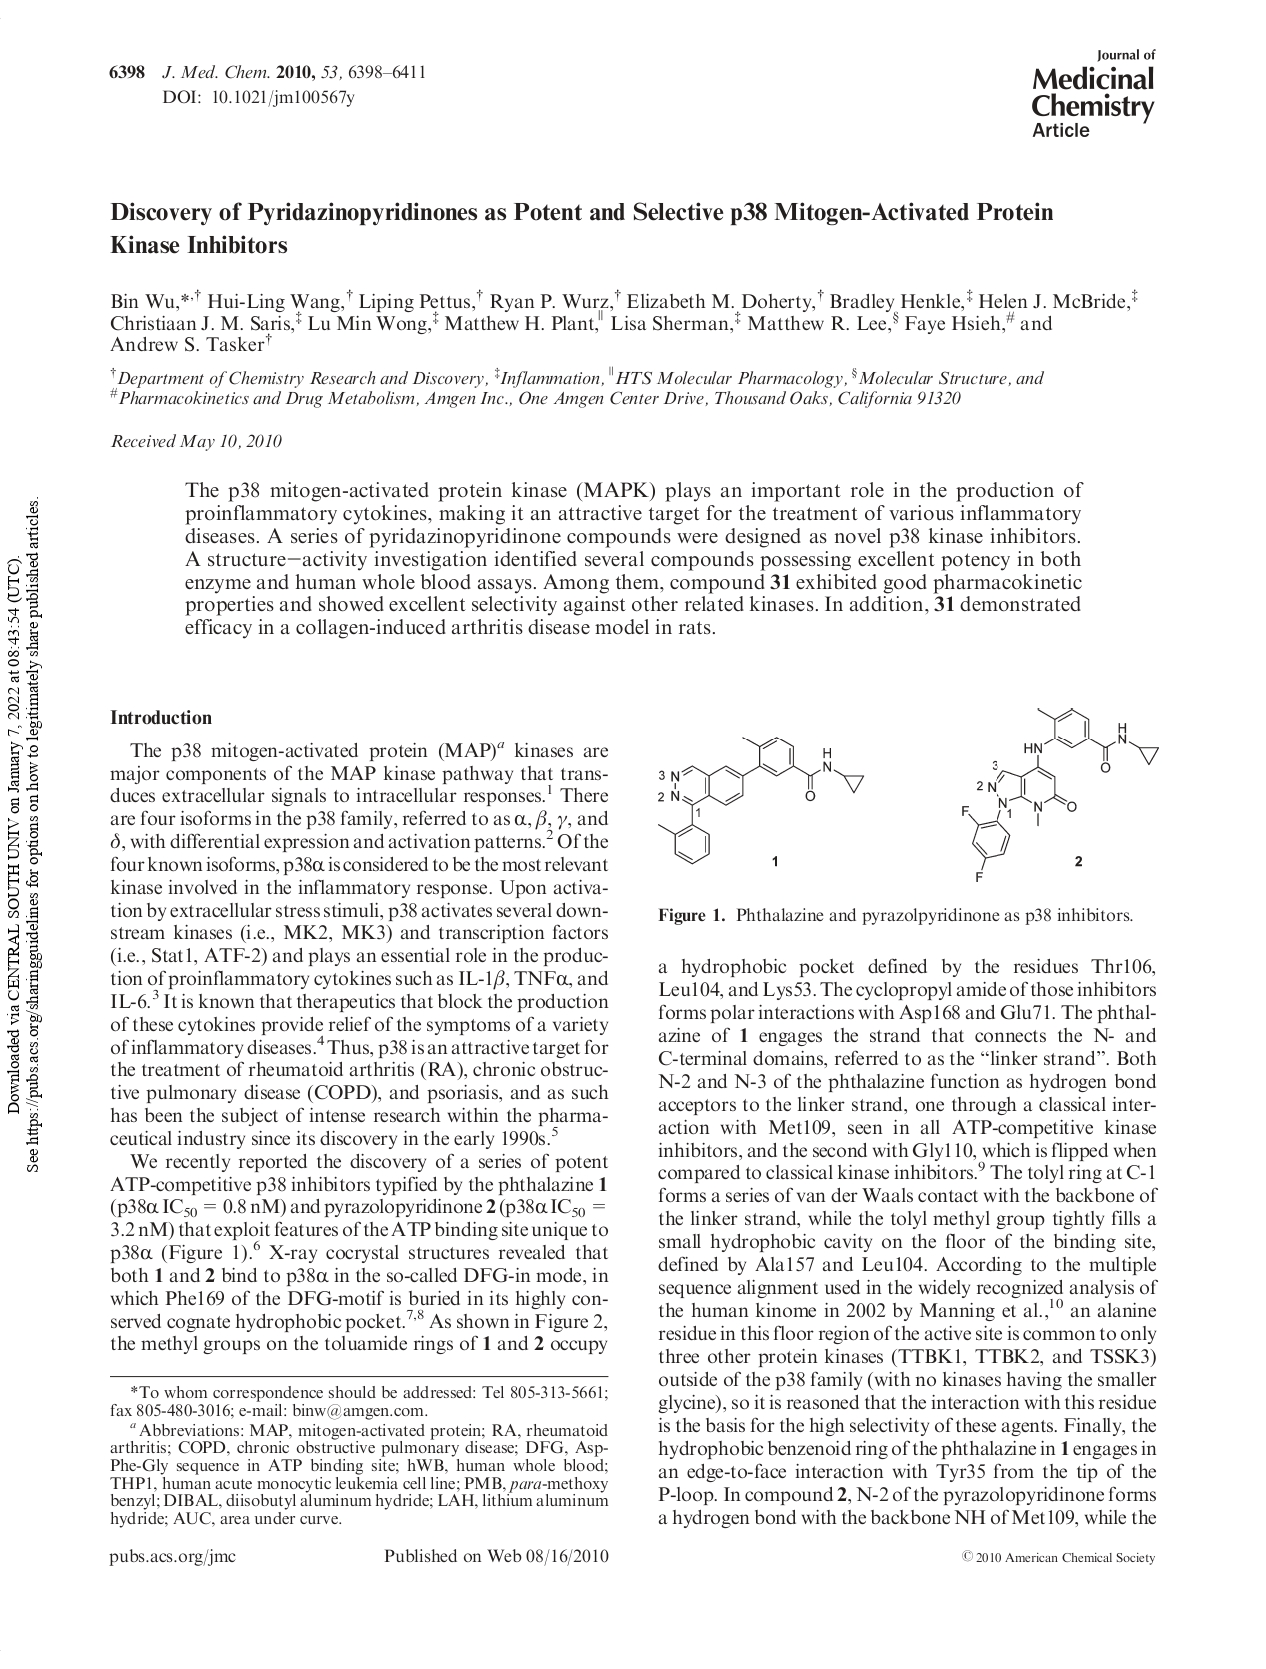exist_molecular: (961, 707, 1160, 884), (656, 734, 867, 866)
